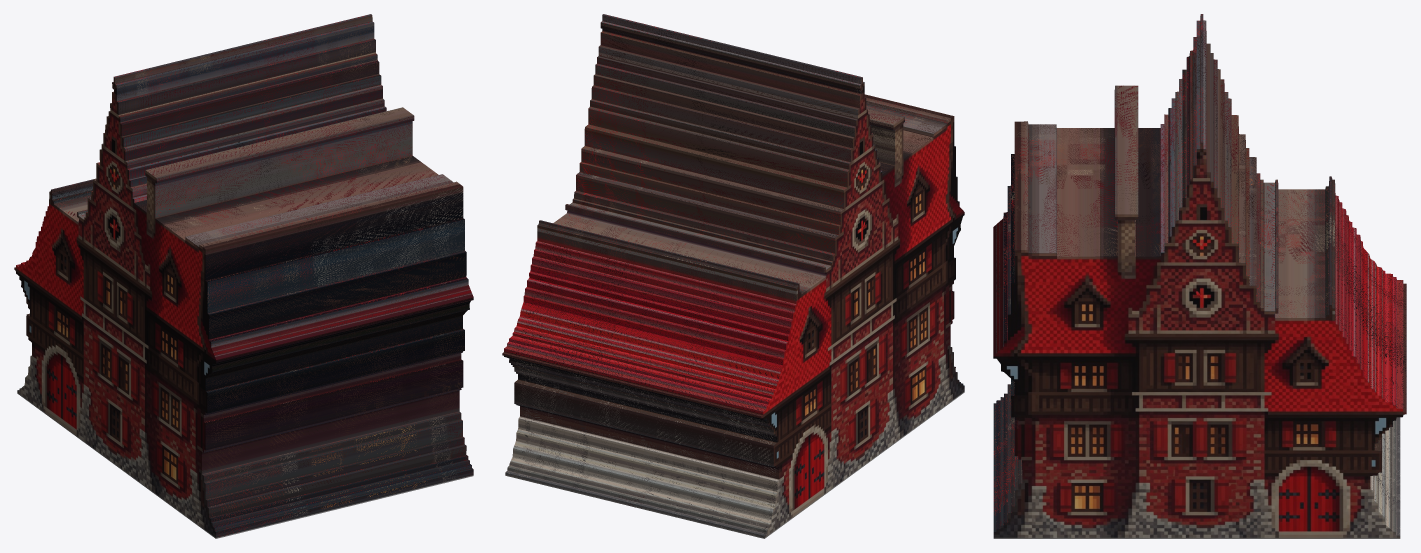
Rendered from building_a.glb.
3 renders of one model, left to right at view 1: azimuth 30°, elevation 25°; view 2: azimuth 150°, elevation 25°; view 3: azimuth 270°, elevation 25°, orthographic. The views are drawn at different scales.
Parts seen in each view (by area): view 1: building_c; view 2: building_c; view 3: building_c.
Part boxes in pixels (box(x1,y1,x2,y2)): building_c: box(14, 14, 473, 538); building_c: box(502, 14, 964, 538); building_c: box(993, 14, 1406, 538).
Size of the model in its own units: 3 by 4.31 by 4.07.
Materials: 1 (1 with a texture image).
